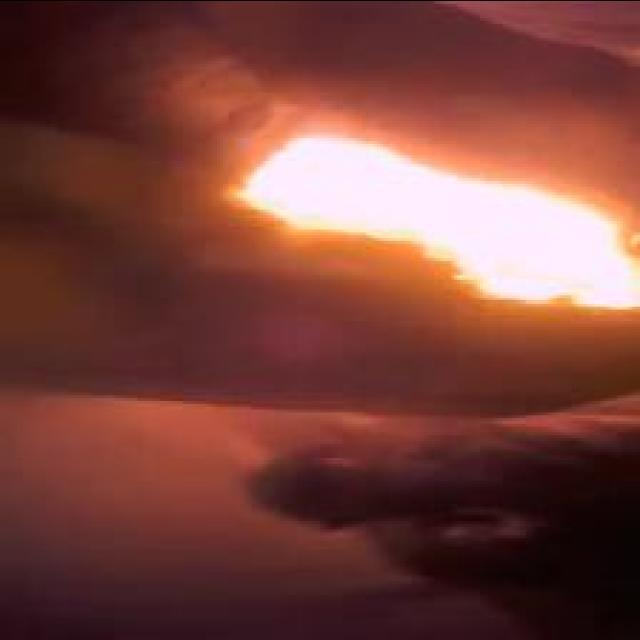Fire: (232, 137, 640, 309)
